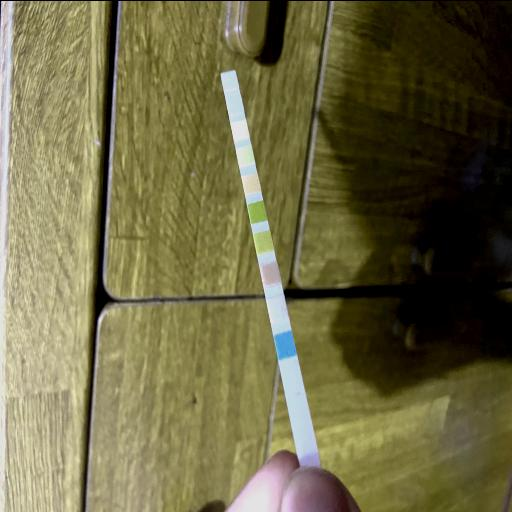Bilirubin: (270, 298, 285, 318)
Blood: (250, 202, 264, 220)
Glucose: (278, 332, 292, 355)
Ketone: (263, 264, 278, 284)
Leukocytes: (224, 72, 236, 86)
Nitrite: (228, 97, 242, 112)
Protein: (238, 147, 252, 163)
SpGravity: (256, 232, 270, 250)
Urobilinogen: (233, 121, 247, 137)
pH: (244, 175, 258, 191)
strip: (220, 69, 319, 459)
